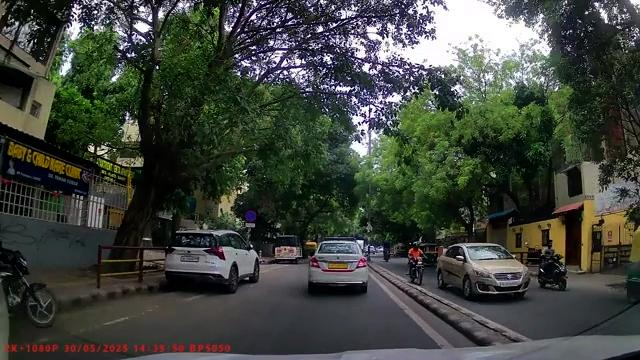motorcycle_with_helmet: (405, 241, 426, 285)
motorcycle_without_helmet: (537, 238, 568, 291)
